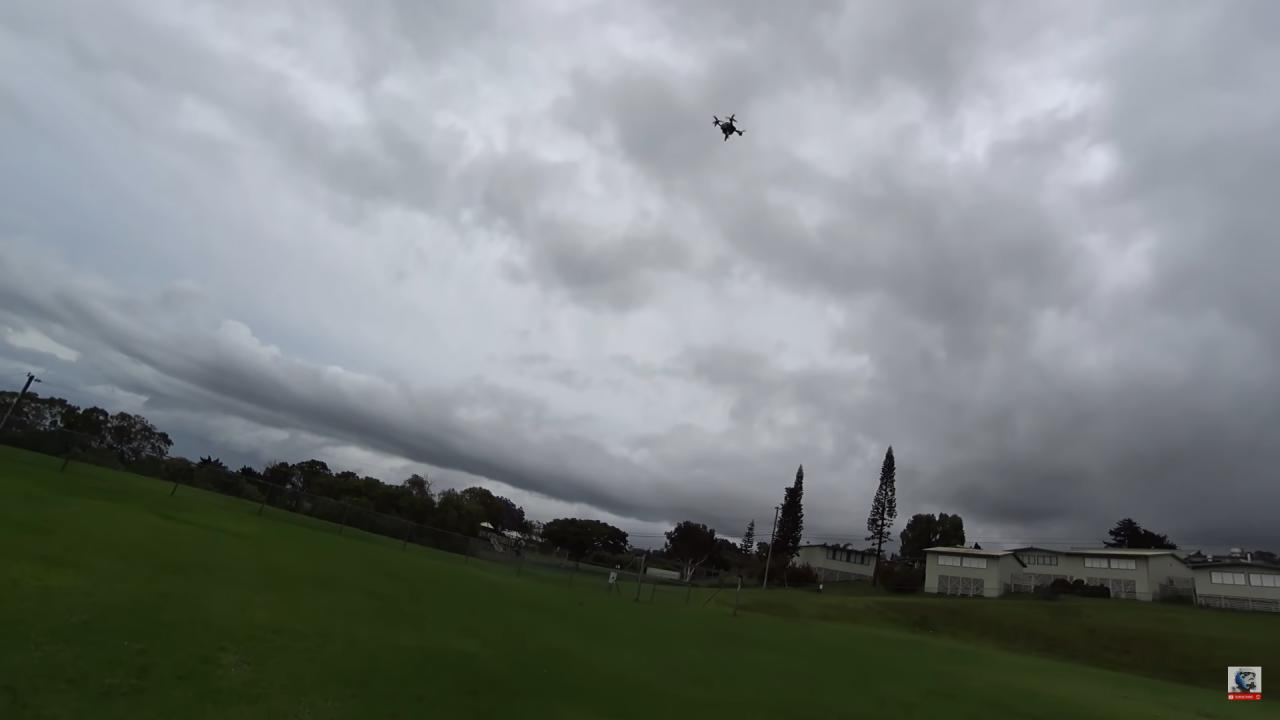Drone: (697, 101, 761, 154)
